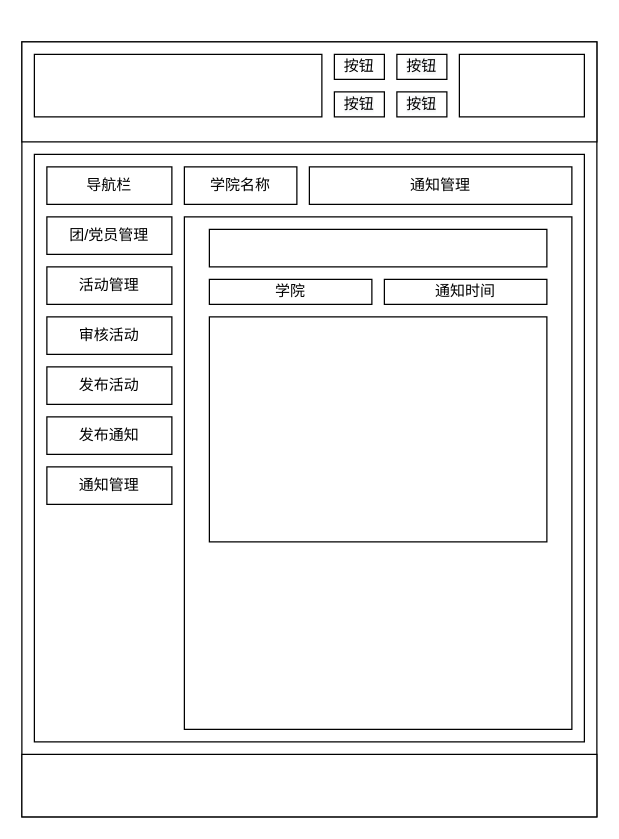
Some shapes in this 619 by 839 pixel diagram are drawn without their labels. The shapes that lost their labels are listed below. From the top down, each one's box as (x1, y1, x2, y2) in pixels, then its label:
(33, 53, 322, 117): 网站标题（文字+图片）
(458, 53, 584, 117): 当前登录学生信息显示（跳转主页）
(208, 228, 547, 267): 通知i标题
(208, 316, 547, 542): 通知内容
(21, 753, 597, 817): 底部导航栏&联系发邮件
